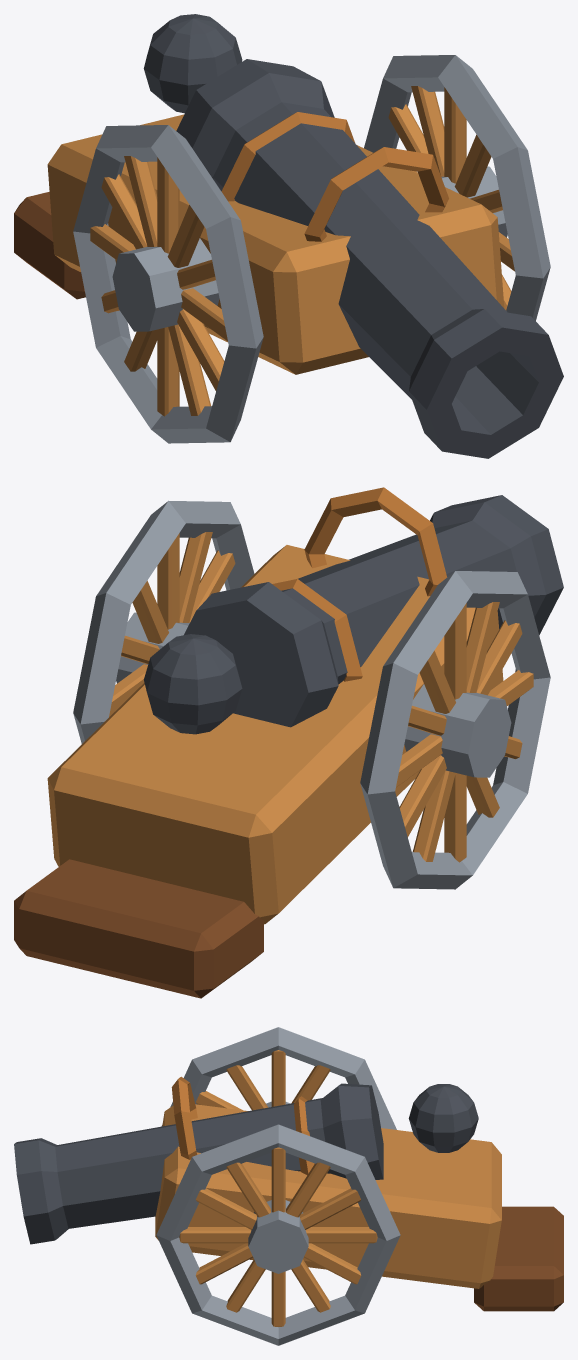
The model's file is Cannon.fbx.
The picture shows the model from 3 angles, top to bottom: view 1: azimuth 30°, elevation 25°; view 2: azimuth 150°, elevation 25°; view 3: azimuth 270°, elevation 25°; orthographic projection. The views are drawn at different scales.
Visible parts, largest first — view 1: Cannon_Barrel, Cannon_WheelR, Cannon, Cannon_WheelL; view 2: Cannon, Cannon_Barrel, Cannon_WheelR, Cannon_WheelL; view 3: Cannon, Cannon_WheelL, Cannon_Barrel, Cannon_WheelR.
Part boxes in pixels (bbox=[...]): Cannon_Barrel: bbox=[143, 14, 563, 458]; Cannon_WheelR: bbox=[73, 125, 263, 443]; Cannon: bbox=[14, 114, 504, 374]; Cannon_WheelL: bbox=[364, 55, 550, 320]; Cannon: bbox=[14, 545, 503, 998]; Cannon_Barrel: bbox=[144, 487, 563, 734]; Cannon_WheelR: bbox=[360, 571, 550, 889]; Cannon_WheelL: bbox=[73, 500, 254, 743]; Cannon: bbox=[155, 1104, 563, 1311]; Cannon_WheelL: bbox=[156, 1124, 400, 1345]; Cannon_Barrel: bbox=[14, 1076, 478, 1244]; Cannon_WheelR: bbox=[161, 1027, 396, 1129].
Bounding box in the file's own units: 2.85 × 2.44 × 5.49.
1 material, 1 textured.
